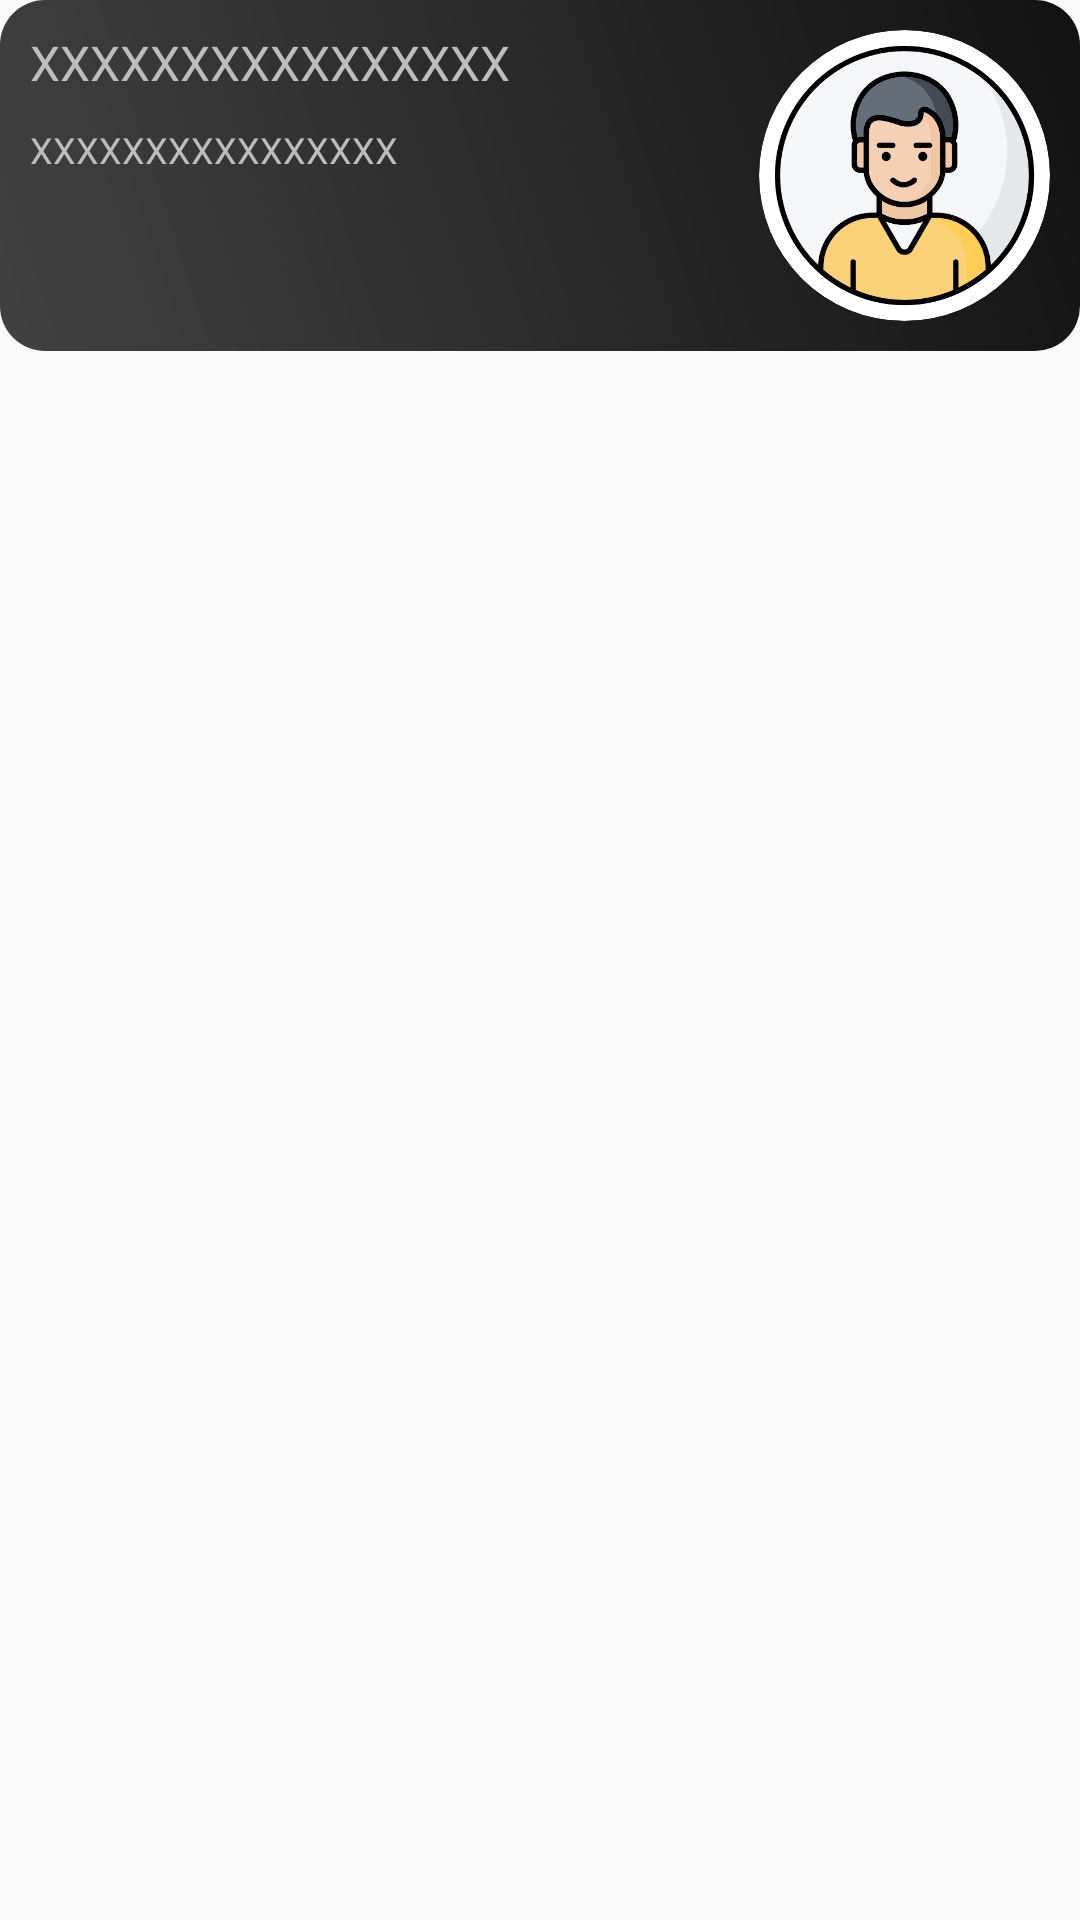

Where icons sit on this 1080 x 1920 app screen, as {"x1": x1, "y1": y1, "x2": x2, "y2": y2}:
profile pic: {"x1": 759, "y1": 30, "x2": 1050, "y2": 321}
